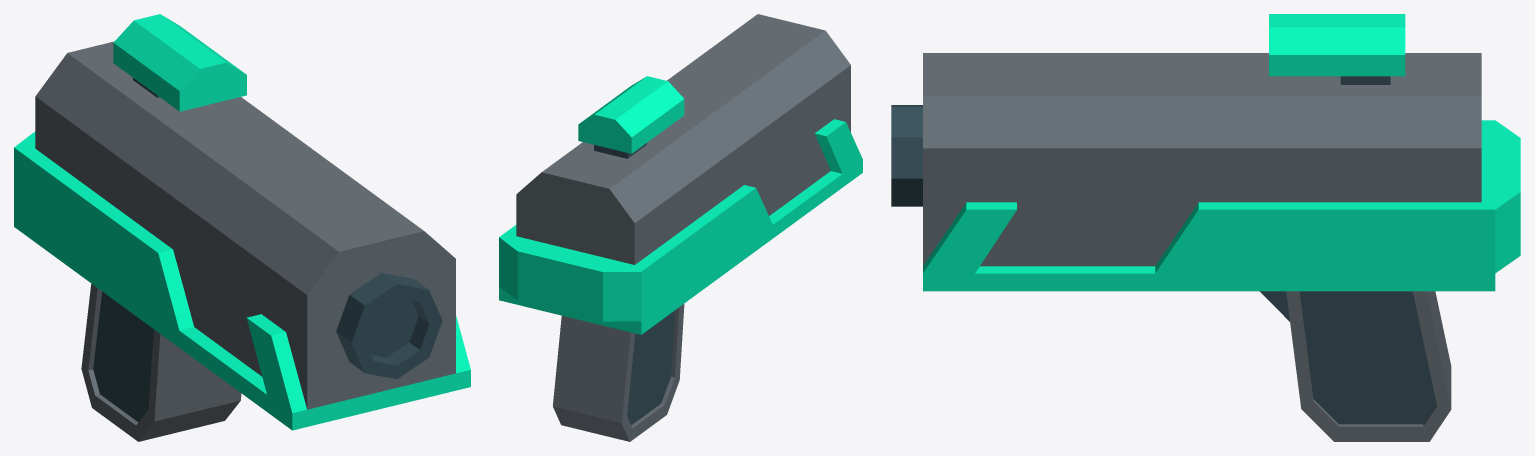
The model's file is Pistol1.fbx.
3 renders of one model, left to right at view 1: azimuth 30°, elevation 25°; view 2: azimuth 150°, elevation 25°; view 3: azimuth 270°, elevation 25°, orthographic. The views are drawn at different scales.
Parts seen in each view (by area): view 1: Cube.004; view 2: Cube.004; view 3: Cube.004.
Boxes of the visible parts, x1=… form: Cube.004: x1=14, y1=14, x2=470, y2=441; Cube.004: x1=499, y1=14, x2=862, y2=441; Cube.004: x1=891, y1=14, x2=1520, y2=441.
Bounding box in the file's own units: 0.2419 × 0.5032 × 0.7182.
